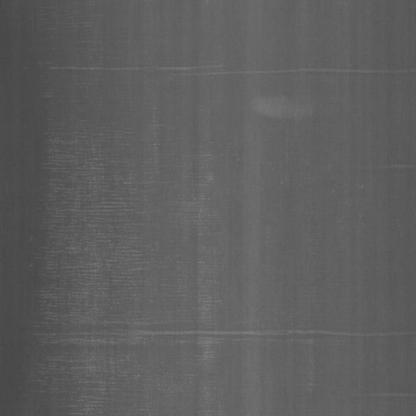waist_folding: (33, 13, 387, 401)
